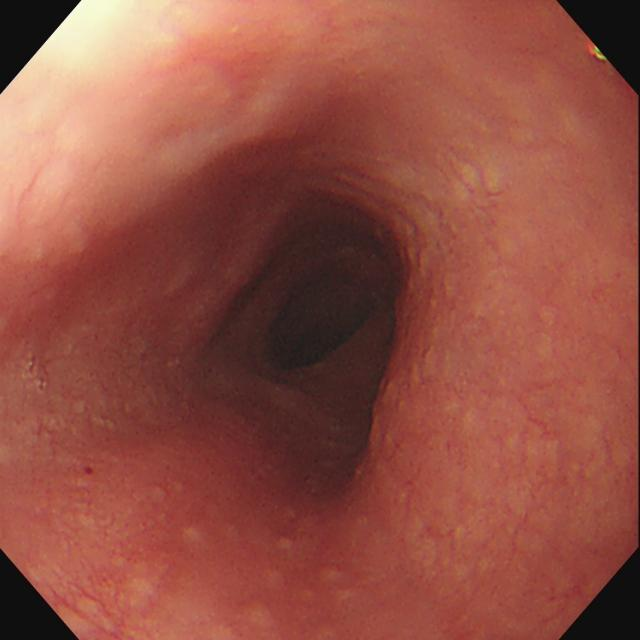E: (264, 265, 380, 368)
